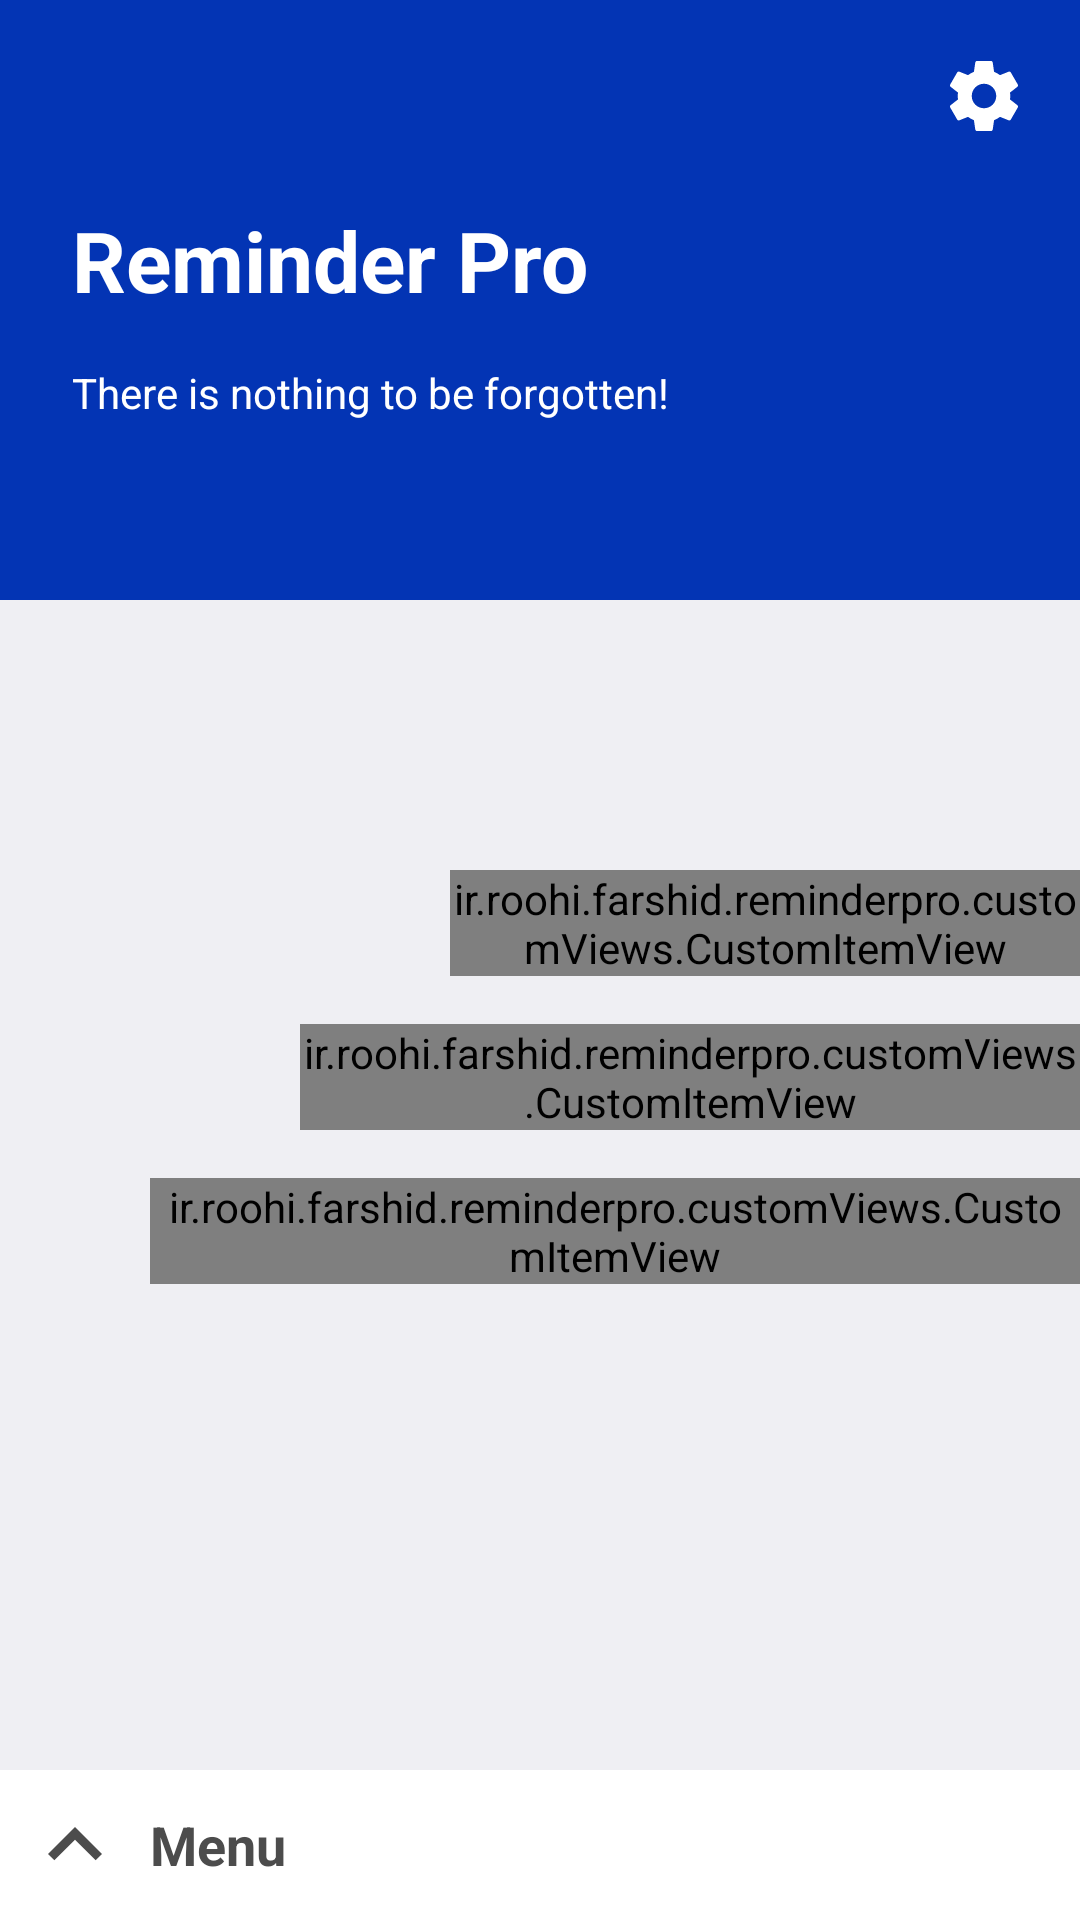

Locate icon controls on the screen. Image size 1080×1920, boxes as (x1, y1, x2, y2).
keyboard arrow: (48, 1827, 102, 1860)
settings: (950, 61, 1018, 131)
